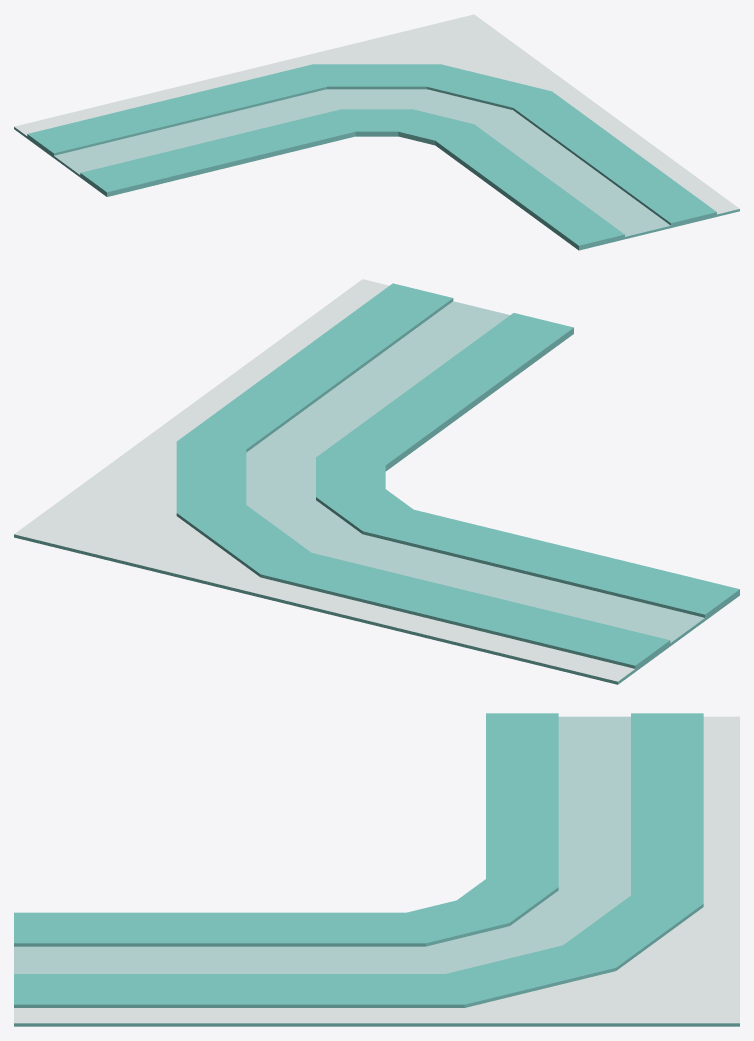
File: Prop_Rug_Corner_Inner.glb
3 views of the same model, one above another, from view 1: azimuth 30°, elevation 25°; view 2: azimuth 150°, elevation 25°; view 3: azimuth 270°, elevation 25° (orthographic). The views are drawn at different scales.
Visible parts, largest first — view 1: Prop_Rug_Corner_Inner; view 2: Prop_Rug_Corner_Inner; view 3: Prop_Rug_Corner_Inner.
Boxes of the visible parts, x1,y1,x2,y2 form: Prop_Rug_Corner_Inner: (14,14,739,250); Prop_Rug_Corner_Inner: (14,279,739,684); Prop_Rug_Corner_Inner: (14,713,739,1026).
Size of the model in its own units: 1 by 0.01 by 1.
